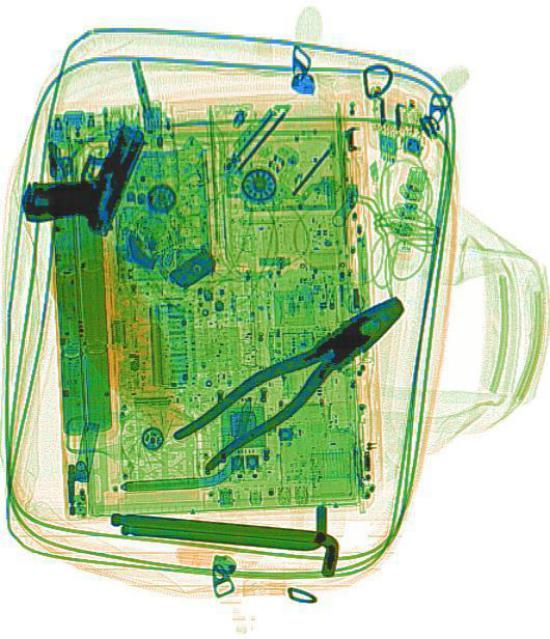Gun: (10, 93, 151, 256)
Pliers: (167, 277, 412, 480)
